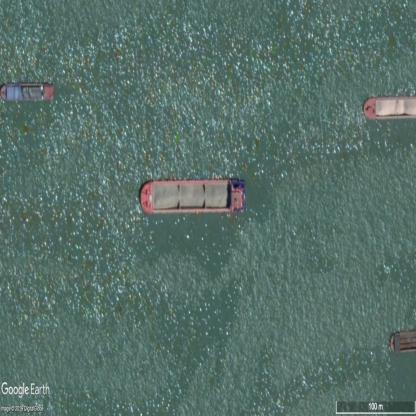ship: (140, 178, 246, 217), (362, 94, 416, 118), (1, 80, 55, 103), (390, 331, 416, 353)
